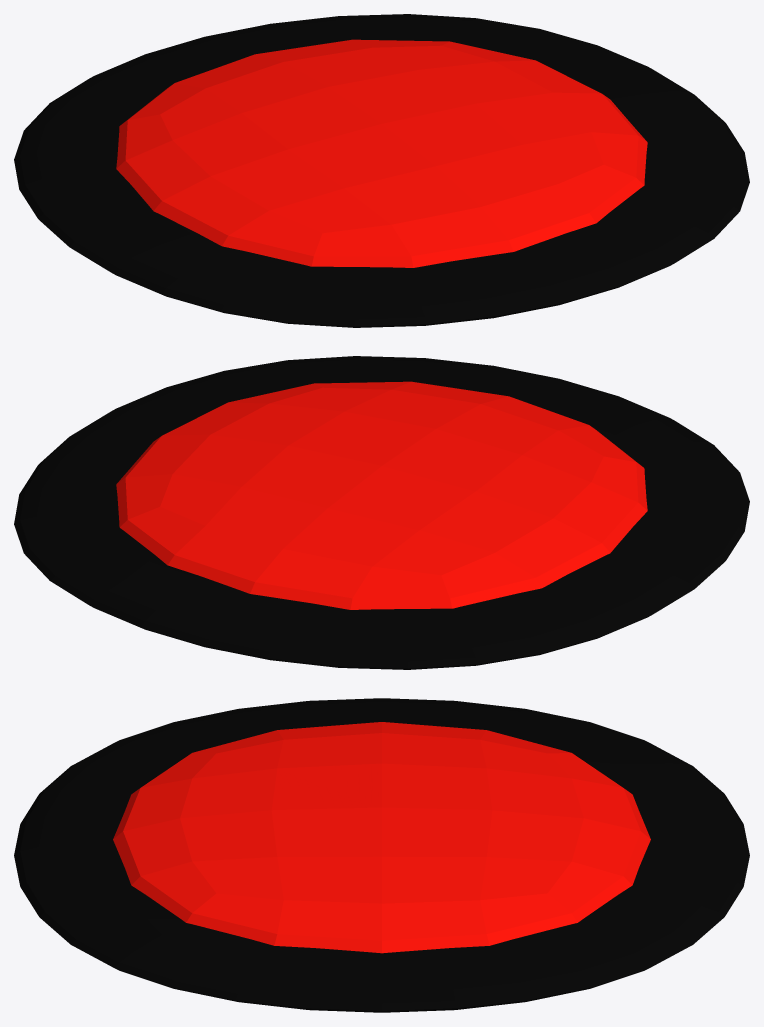
File: pressureplate.fbx
3 views of the same model, one above another, from view 1: azimuth 30°, elevation 25°; view 2: azimuth 150°, elevation 25°; view 3: azimuth 270°, elevation 25° (orthographic).
Visible parts, largest first — view 1: Cube, Cube.001; view 2: Cube, Cube.001; view 3: Cube, Cube.001.
Part boxes in pixels (<box>): Cube: <box>116,39,647,267</box>; Cube.001: <box>14,14,749,327</box>; Cube: <box>116,381,647,609</box>; Cube.001: <box>14,356,749,669</box>; Cube: <box>113,722,650,953</box>; Cube.001: <box>14,698,749,1012</box>.
Size of the model in its own units: 458 by 54.2 by 458.
